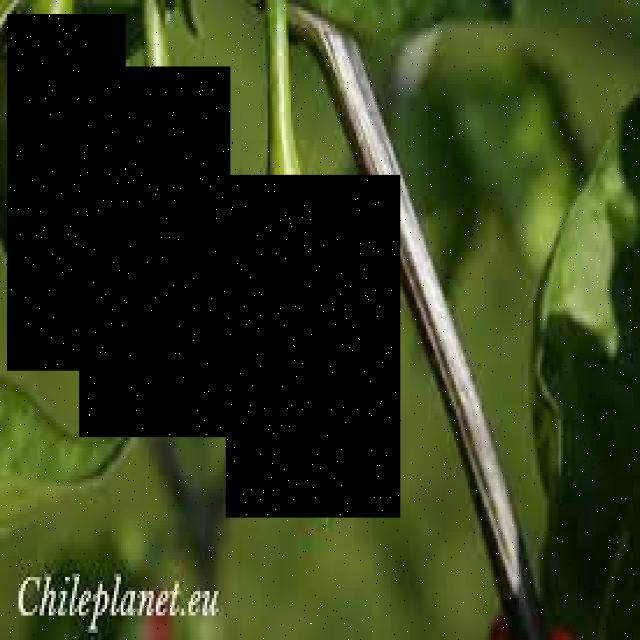Chili_Pepper: (226, 176, 400, 519), (81, 68, 232, 438), (9, 16, 127, 373)
